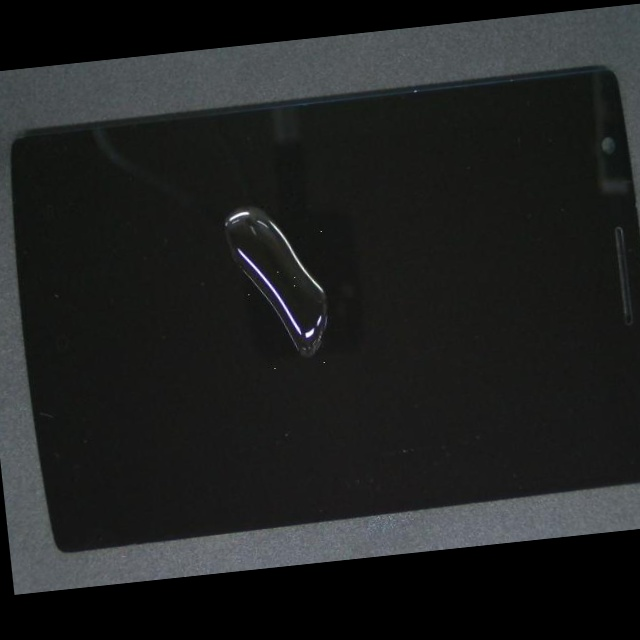oil: (117, 101, 376, 291)
